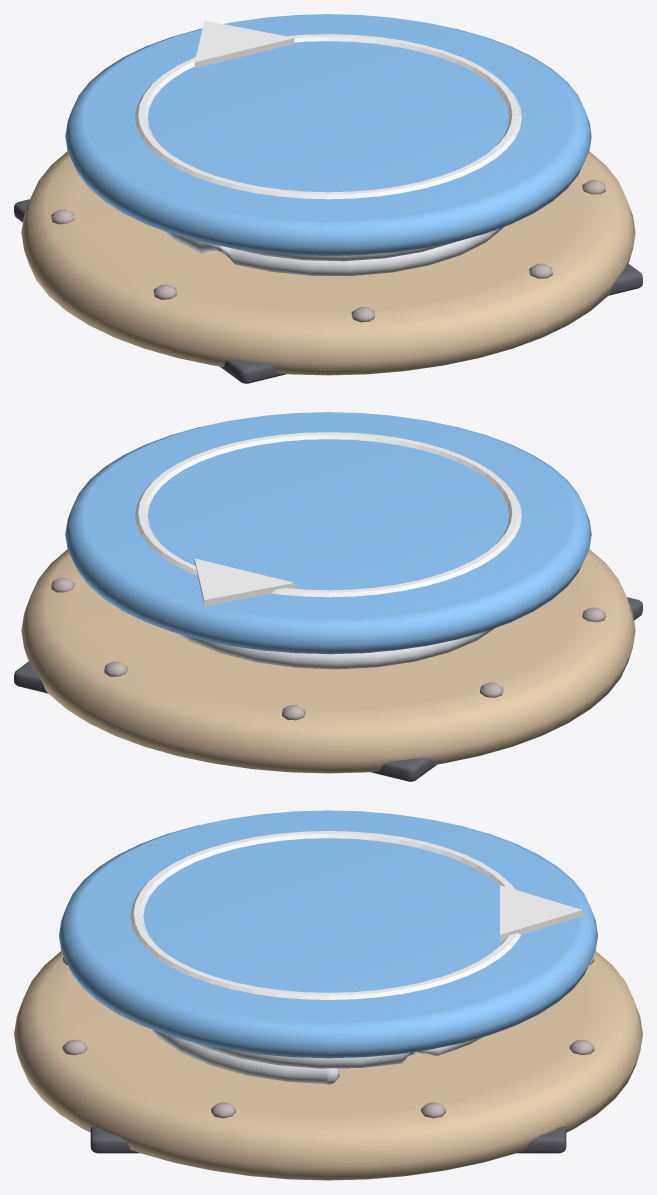
File: MechaMarathonPad.glb
3 views of the same model, one above another, from view 1: azimuth 30°, elevation 25°; view 2: azimuth 150°, elevation 25°; view 3: azimuth 270°, elevation 25° (orthographic). The views are drawn at different scales.
Visible parts, largest first — view 1: Top, Base, Ring, Spring, Dark, Trim; view 2: Top, Base, Ring, Spring, Dark, Trim; view 3: Top, Base, Ring, Spring, Dark, Trim.
Boxes of the visible parts, x1,y1,x2,y2 form: Top: [65, 14, 591, 255]; Base: [21, 151, 635, 375]; Ring: [135, 20, 521, 199]; Spring: [164, 226, 504, 275]; Dark: [14, 199, 642, 383]; Trim: [51, 180, 605, 322]; Top: [65, 412, 591, 653]; Base: [21, 549, 635, 773]; Ring: [135, 432, 521, 607]; Spring: [176, 628, 495, 669]; Dark: [14, 597, 642, 781]; Trim: [51, 578, 605, 720]; Top: [59, 810, 597, 1058]; Base: [14, 951, 642, 1180]; Ring: [130, 831, 582, 999]; Spring: [151, 1029, 482, 1084]; Dark: [90, 1126, 566, 1153]; Trim: [62, 957, 594, 1118].
Size of the model in its own units: 5.32 by 1.36 by 5.32.
